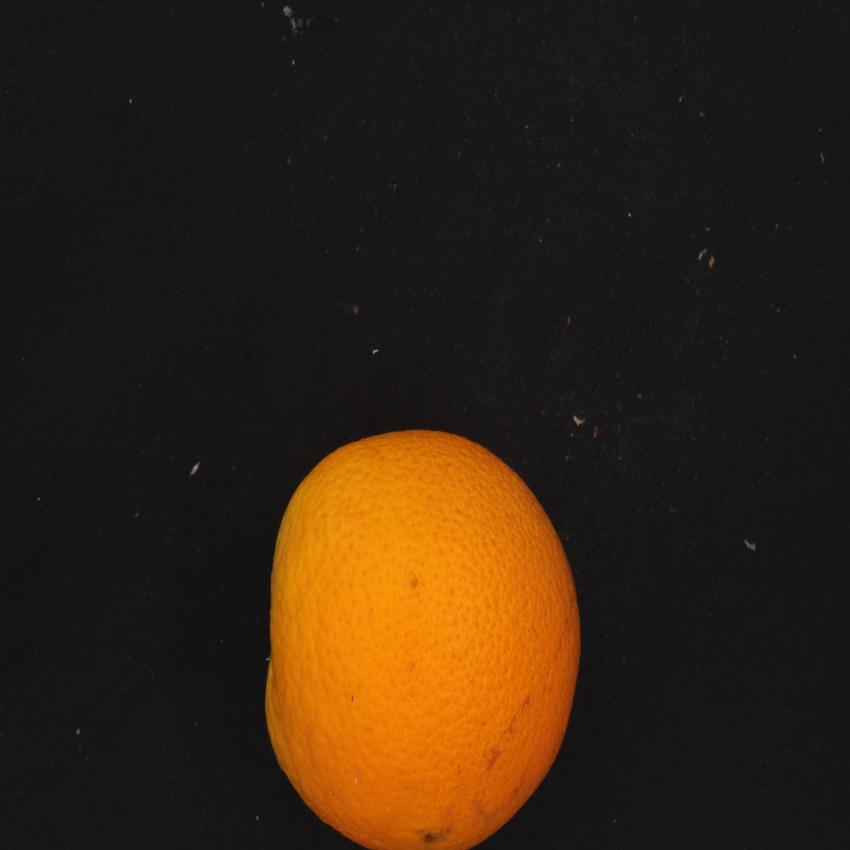Buen estado: (254, 414, 591, 850)
